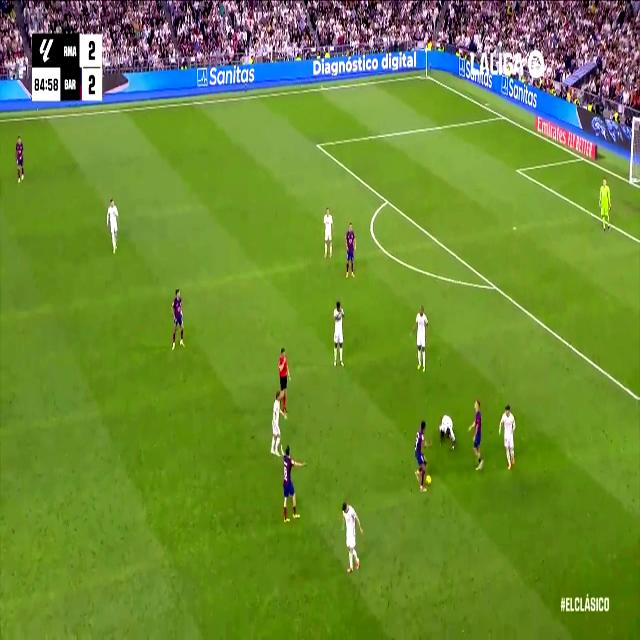bigarea_bottom_inner: (632, 383, 640, 411)
bigarea_top_inner: (313, 135, 321, 153)
bottom_arc_area_intersection: (490, 276, 500, 296)
corner: (421, 70, 431, 81)
smallarea_top_inner: (513, 162, 522, 178)
top_arc_area_intersection: (382, 191, 392, 209)
